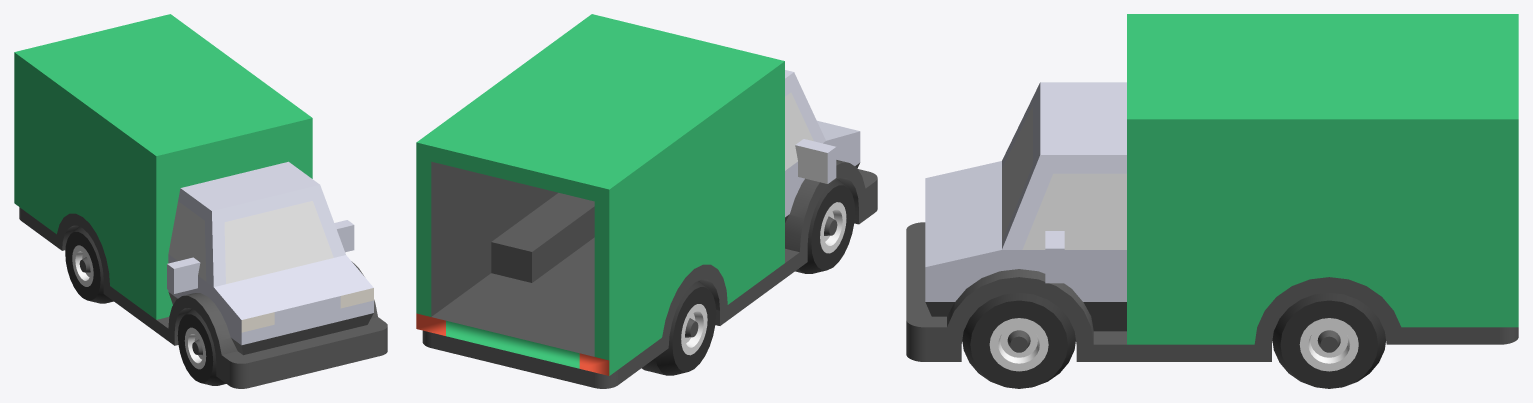
File: truckwithoutback.obj
The picture shows the model from 3 angles, left to right: view 1: azimuth 30°, elevation 25°; view 2: azimuth 150°, elevation 25°; view 3: azimuth 270°, elevation 25°; orthographic projection. The views are drawn at different scales.
Visible parts, largest first — view 1: delivery; view 2: delivery; view 3: delivery.
Part boxes in pixels (x1=…): delivery: x1=14, y1=14, x2=387, y2=388; delivery: x1=416, y1=14, x2=877, y2=388; delivery: x1=906, y1=14, x2=1518, y2=388.
Bounding box in the file's own units: 1.12 × 1.2 × 2.4.
